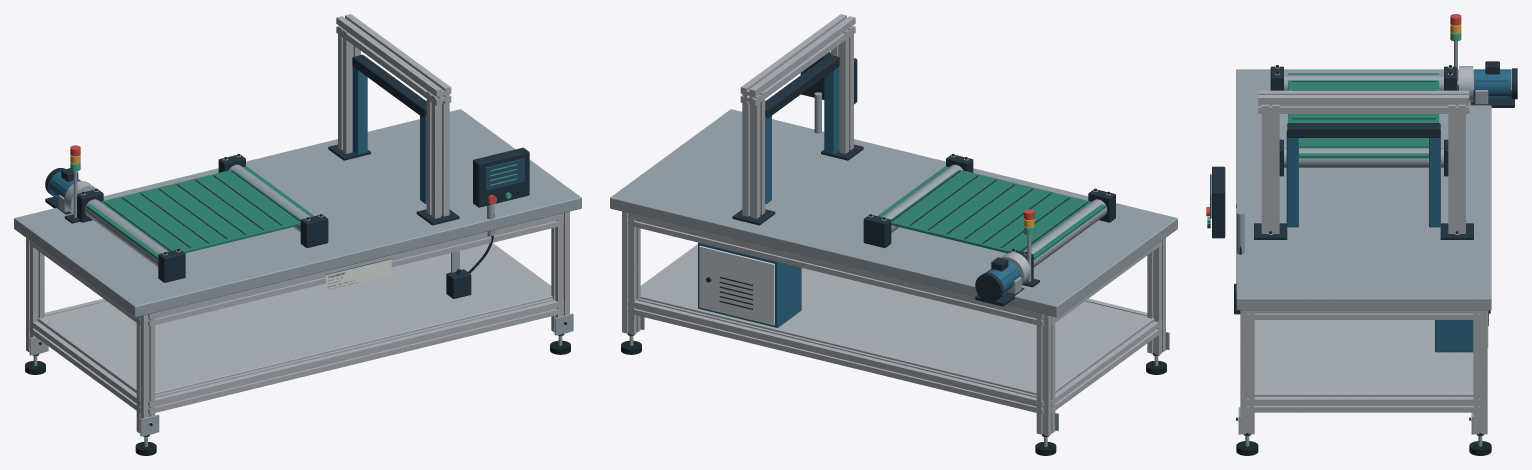
The model's file is metal-detector-cell.glb.
3 views of the same model, side by side, from view 1: azimuth 30°, elevation 25°; view 2: azimuth 150°, elevation 25°; view 3: azimuth 270°, elevation 25° (orthographic). The views are drawn at different scales.
Visible parts, largest first — view 1: ClosedMachineBed_40, LowerShelf_41, Belt_71, SlottedExtrusion_34, SlottedExtrusion_35, SlottedExtrusion_133, SlottedExtrusion_128, SlottedExtrusion_11, SlottedExtrusion_36, SlottedExtrusion_123, ConsoleBack_52, SlottedExtrusion_27 (+11 smaller); view 2: ClosedMachineBed_40, LowerShelf_41, Belt_71, SlottedExtrusion_32, SlottedExtrusion_33, BackDoor_43, SlottedExtrusion_133, SlottedExtrusion_123, SlottedExtrusion_3, Cabinet_42, SlottedExtrusion_19, SlottedExtrusion_36 (+9 smaller); view 3: ClosedMachineBed_40, LowerShelf_41, Belt_71, SlottedExtrusion_133, SlottedExtrusion_38, SlottedExtrusion_128, SlottedExtrusion_123, SensorBridge_136, SlottedExtrusion_39, BeltRoller_87, SlottedExtrusion_27, SlottedExtrusion_19 (+13 smaller).
Boxes of the visible parts, box(x1,y1,x2,y2) form: ClosedMachineBed_40: box(14, 109, 581, 317); LowerShelf_41: box(37, 244, 552, 394); Belt_71: box(86, 166, 314, 259); SlottedExtrusion_34: box(148, 298, 563, 414); SlottedExtrusion_35: box(148, 213, 563, 326); SlottedExtrusion_133: box(336, 14, 451, 105); SlottedExtrusion_128: box(426, 91, 449, 218); SlottedExtrusion_11: box(136, 313, 155, 436); SlottedExtrusion_36: box(29, 320, 140, 413); SlottedExtrusion_123: box(338, 26, 360, 153); ConsoleBack_52: box(473, 147, 529, 207); SlottedExtrusion_27: box(551, 211, 569, 335); ClosedMachineBed_40: box(610, 109, 1177, 317); LowerShelf_41: box(639, 248, 1154, 394); Belt_71: box(877, 166, 1105, 259); SlottedExtrusion_32: box(628, 298, 1043, 414); SlottedExtrusion_33: box(628, 213, 1043, 326); BackDoor_43: box(699, 245, 774, 325); SlottedExtrusion_133: box(740, 14, 855, 105); SlottedExtrusion_123: box(742, 91, 765, 218); SlottedExtrusion_3: box(1036, 313, 1055, 436); Cabinet_42: box(698, 242, 801, 327); SlottedExtrusion_19: box(622, 211, 640, 335); SlottedExtrusion_36: box(1051, 320, 1162, 413); ClosedMachineBed_40: box(1236, 69, 1491, 310); LowerShelf_41: box(1254, 320, 1473, 396); Belt_71: box(1288, 73, 1439, 158); SlottedExtrusion_133: box(1258, 90, 1469, 113); SlottedExtrusion_38: box(1247, 397, 1480, 412); SlottedExtrusion_128: box(1261, 104, 1279, 233); SlottedExtrusion_123: box(1448, 104, 1465, 233); SensorBridge_136: box(1287, 123, 1440, 137); SlottedExtrusion_39: box(1247, 310, 1480, 319); BeltRoller_87: box(1284, 148, 1443, 167); SlottedExtrusion_27: box(1240, 310, 1254, 434); SlottedExtrusion_19: box(1473, 310, 1487, 434).
Bounding box in the file's own units: 2.45 × 1.49 × 1.4.
12 materials, 3 textured.
